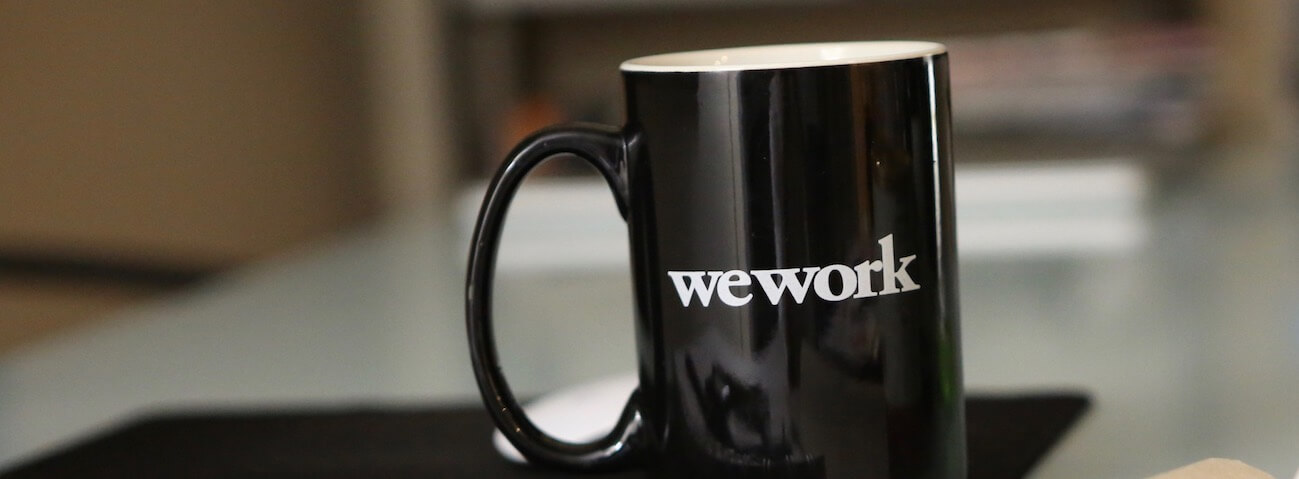wework: (661, 229, 925, 312)
